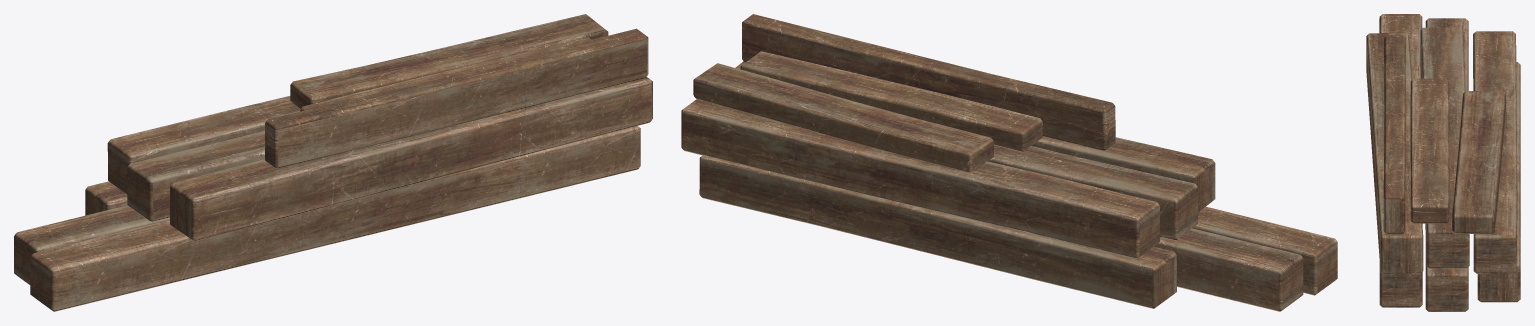
The picture shows the model from 3 angles, left to right: view 1: azimuth 30°, elevation 25°; view 2: azimuth 150°, elevation 25°; view 3: azimuth 270°, elevation 25°; orthographic projection. The views are drawn at different scales.
Parts seen in each view (by area): view 1: SM_DR_Wood_Stack_01_LOD0; view 2: SM_DR_Wood_Stack_01_LOD0; view 3: SM_DR_Wood_Stack_01_LOD0.
Part boxes in pixels (box(x1,y1,x2,y2)): SM_DR_Wood_Stack_01_LOD0: box(14, 14, 652, 311); SM_DR_Wood_Stack_01_LOD0: box(681, 14, 1337, 311); SM_DR_Wood_Stack_01_LOD0: box(1366, 14, 1520, 311).
Bounding box in the file's own units: 7.24 × 1.5 × 1.8.
1 material, 1 textured.
